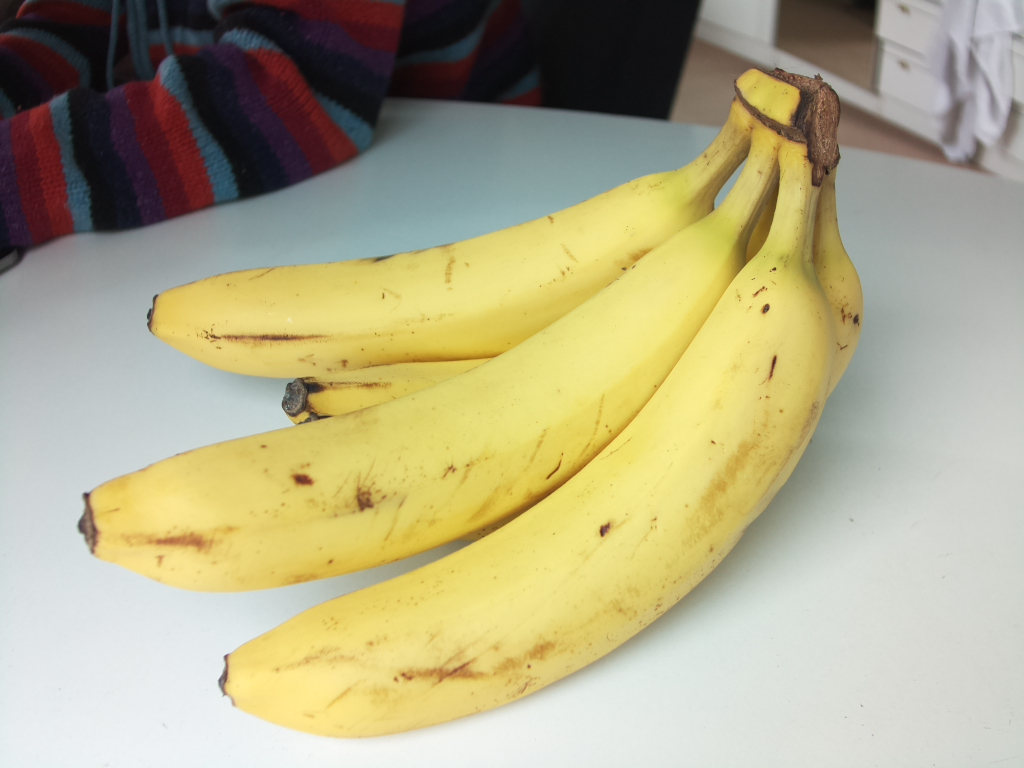banana: (219, 80, 838, 747), (87, 80, 796, 594), (280, 80, 863, 421), (147, 73, 775, 377)
